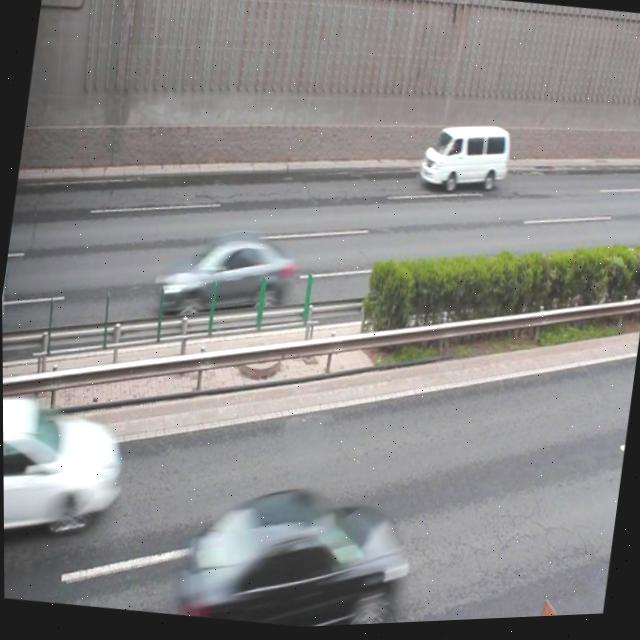car: (172, 473, 407, 634), (154, 228, 295, 330)
truck: (419, 122, 509, 201)
